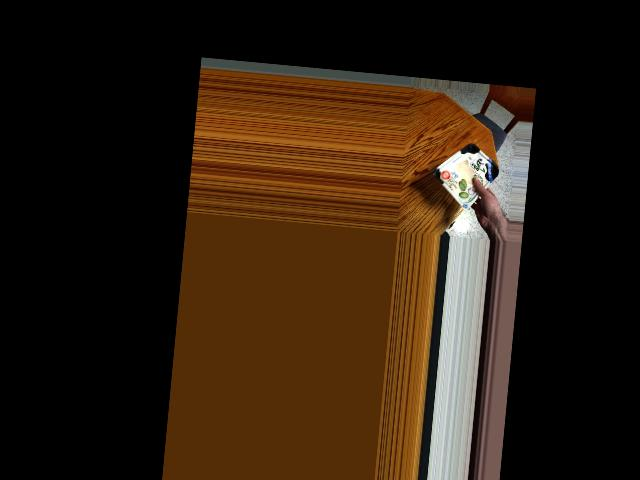cheese: (437, 149, 497, 192)
